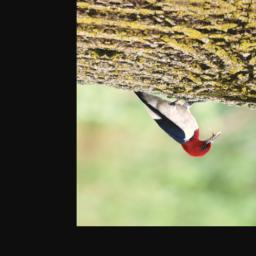Woodpecker: (124, 91, 226, 160)
